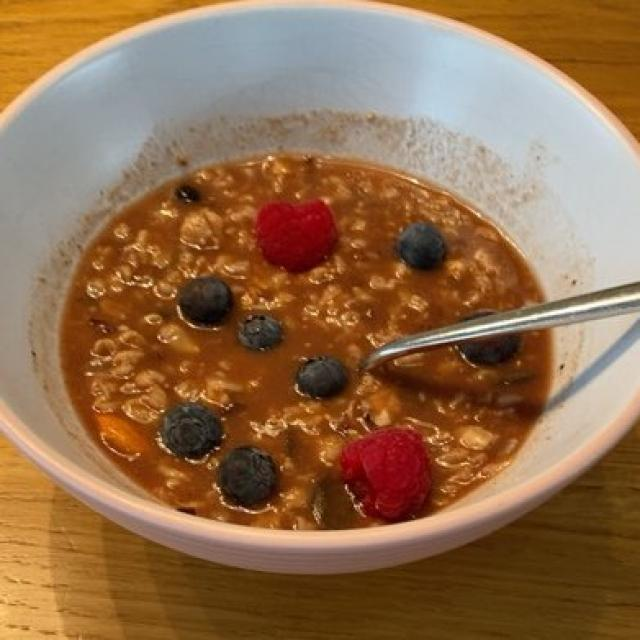cocoa-powder: (233, 352, 286, 406)
oats: (98, 212, 282, 401)
